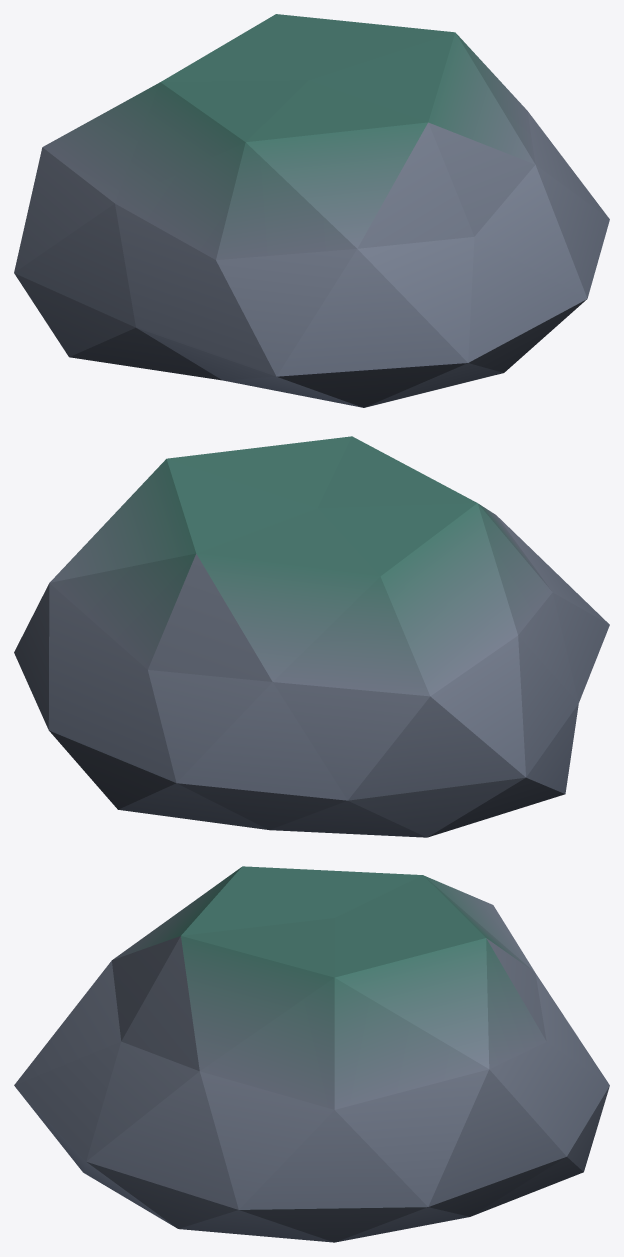
Rendered from rock-large.glb.
3 views of the same model, one above another, from view 1: azimuth 30°, elevation 25°; view 2: azimuth 150°, elevation 25°; view 3: azimuth 270°, elevation 25° (orthographic). The views are drawn at different scales.
Parts seen in each view (by area): view 1: rock-large; view 2: rock-large; view 3: rock-large.
Boxes of the visible parts, <box> form: rock-large: <box>14,14,609,407</box>; rock-large: <box>14,436,609,837</box>; rock-large: <box>14,866,609,1242</box>.
Size of the model in its own units: 2.01 by 0.8833 by 2.05.
